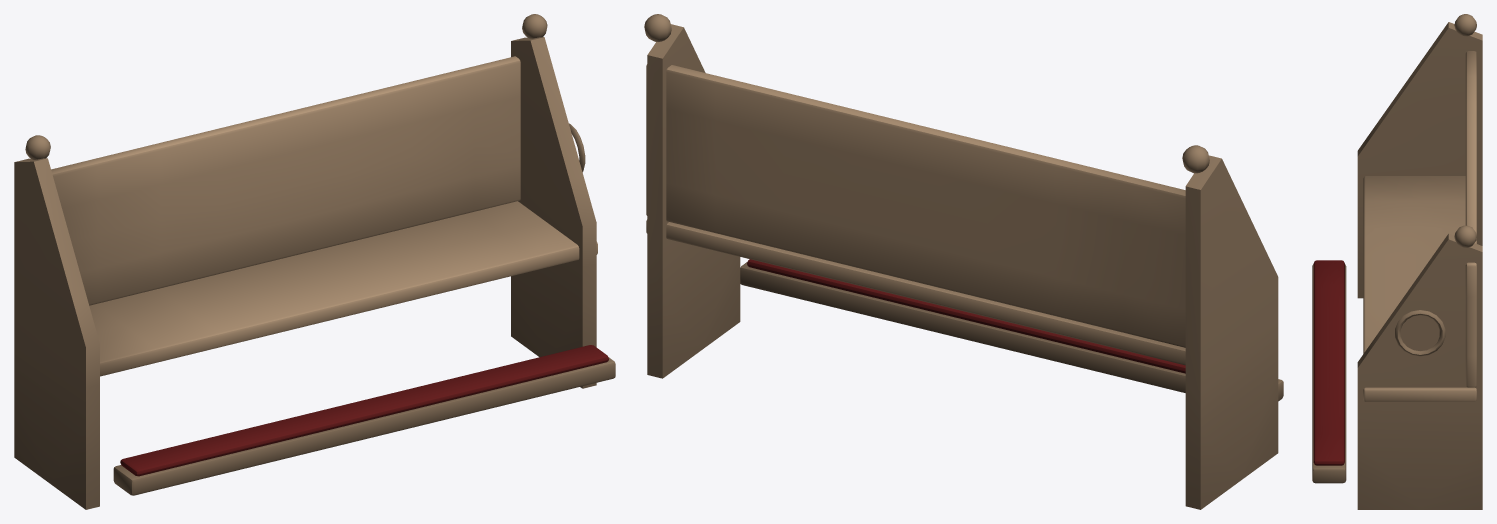
The model's file is obj_kit_pew.glb.
3 views of the same model, side by side, from view 1: azimuth 30°, elevation 25°; view 2: azimuth 150°, elevation 25°; view 3: azimuth 270°, elevation 25° (orthographic). The views are drawn at different scales.
Visible parts, largest first — view 1: Cube.001, Cube, end, end.001, Cube.003, Cube.002; view 2: Cube.001, end, end.001, Cube, Cube.002, Cube.003; view 3: end.001, end, Cube, Cube.003, Cube.001, Cube.002, Torus.001, Sphere.001, Sphere.
Part boxes in pixels (x1=…): Cube.001: x1=51, y1=56, x2=520, y2=305; Cube: x1=89, y1=201, x2=597, y2=376; end: x1=14, y1=158, x2=99, y2=509; end.001: x1=511, y1=37, x2=596, y2=388; Cube.003: x1=120, y1=345, x2=608, y2=476; Cube.002: x1=113, y1=357, x2=615, y2=495; Cube.001: x1=646, y1=64, x2=1185, y2=347; end: x1=1185, y1=155, x2=1278, y2=509; end.001: x1=647, y1=24, x2=740, y2=378; Cube: x1=646, y1=219, x2=1185, y2=365; Cube.002: x1=740, y1=262, x2=1283, y2=401; Cube.003: x1=747, y1=259, x2=1185, y2=373; end.001: x1=1357, y1=233, x2=1482, y2=509; end: x1=1357, y1=22, x2=1482, y2=298; Cube: x1=1363, y1=176, x2=1476, y2=401; Cube.003: x1=1313, y1=260, x2=1344, y2=465; Cube.001: x1=1465, y1=51, x2=1476, y2=387; Cube.002: x1=1312, y1=264, x2=1346, y2=483; Torus.001: x1=1395, y1=310, x2=1445, y2=356; Sphere.001: x1=1454, y1=225, x2=1476, y2=247; Sphere: x1=1454, y1=14, x2=1476, y2=36.
Bounding box in the file's own units: 1.85 × 1.1 × 0.6.
